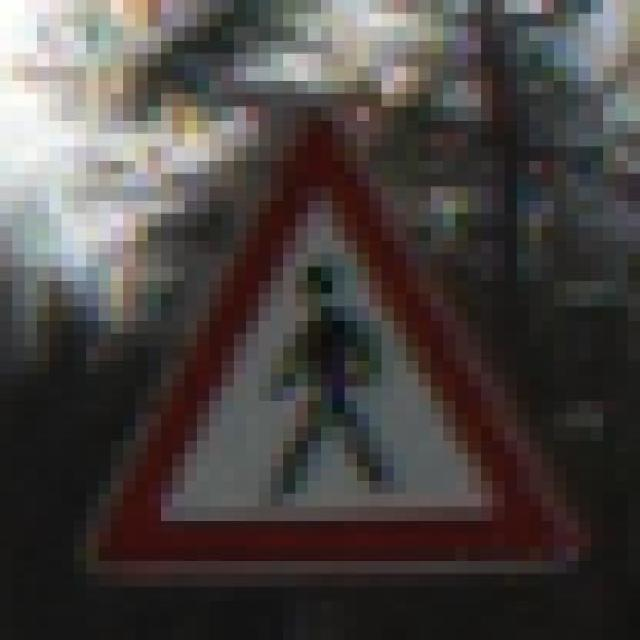Pedestrian Crossing: (49, 107, 603, 587)
